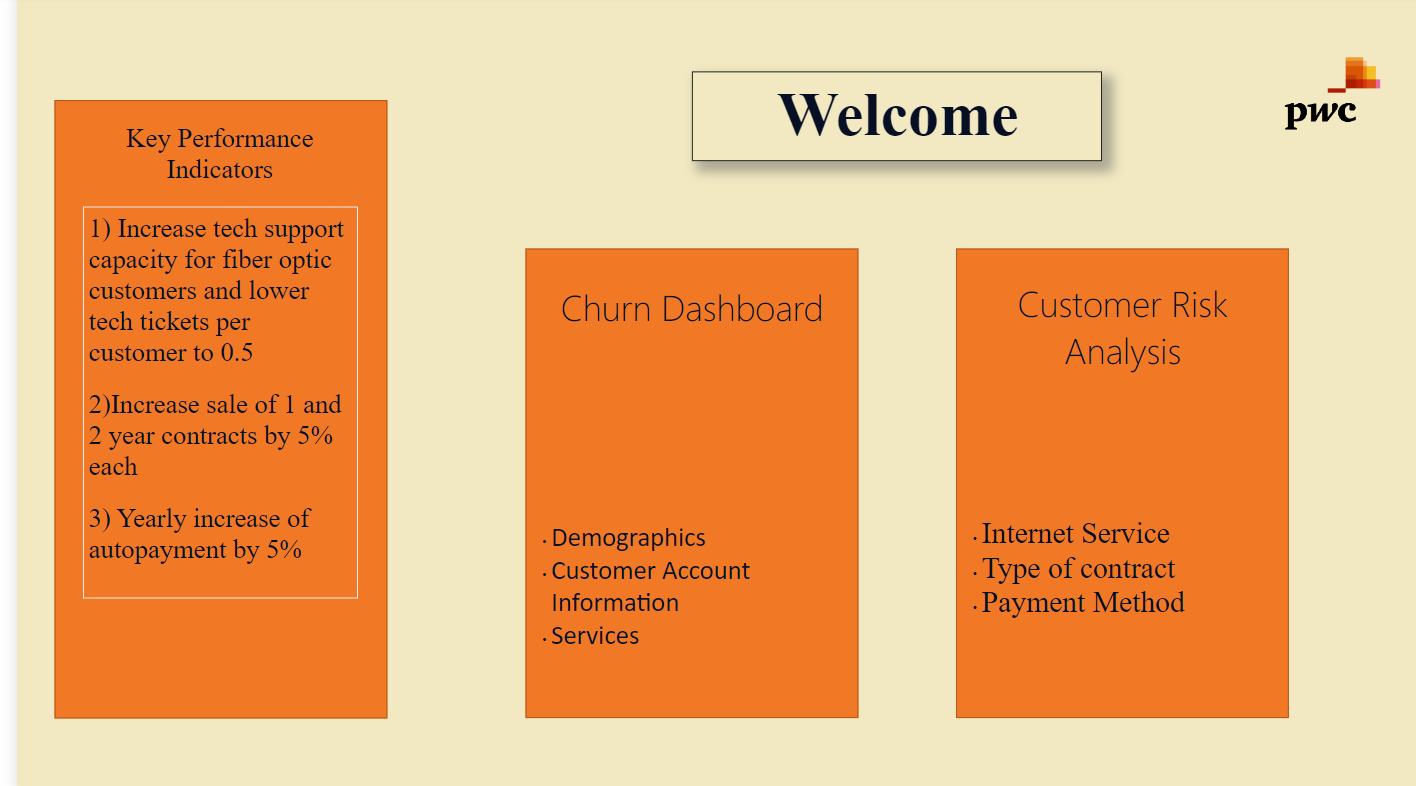

The dashboard page shown, as its layout file describes it:
{"tool":"powerbi","page":{"name":"Welcome","canvas":[1280,720],"ordinal":0},"visuals":[{"type":"textbox","box":[607.9,69.5,369.5,80.5],"z":0},{"type":"shape","box":[33.2,94.7,300,557.4],"z":1000},{"type":"textbox","box":[60,108.9,246.3,82.1],"z":2000},{"type":"textbox","box":[60,191.1,246.3,352.1],"z":3000},{"type":"shape","box":[457.9,229,300,423.2],"z":4000},{"type":"textbox","box":[457.9,450,300,202.1],"z":5000},{"type":"textbox","box":[457.9,254.2,300,63.2],"z":6000},{"type":"shape","box":[846.3,229,300,423.2],"z":7000},{"type":"textbox","box":[846.3,249.5,300,110.5],"z":8000},{"type":"textbox","box":[846.3,464.2,300,135.8],"z":9000},{"type":"image","box":[1091.1,26.8,189.5,123.2],"z":10000}]}

Visuals, with their boxes in screenshot pixels (x1, y1, x2, y2), scaled from the page's 1280x720 canvas onto the 1416x786 screenshot:
textbox: BBox(672, 76, 1081, 164)
shape: BBox(37, 103, 369, 712)
textbox: BBox(66, 119, 339, 209)
textbox: BBox(66, 209, 339, 593)
shape: BBox(507, 250, 838, 712)
textbox: BBox(507, 491, 838, 712)
textbox: BBox(507, 278, 838, 346)
shape: BBox(936, 250, 1268, 712)
textbox: BBox(936, 272, 1268, 393)
textbox: BBox(936, 507, 1268, 655)
image: BBox(1207, 29, 1415, 164)
